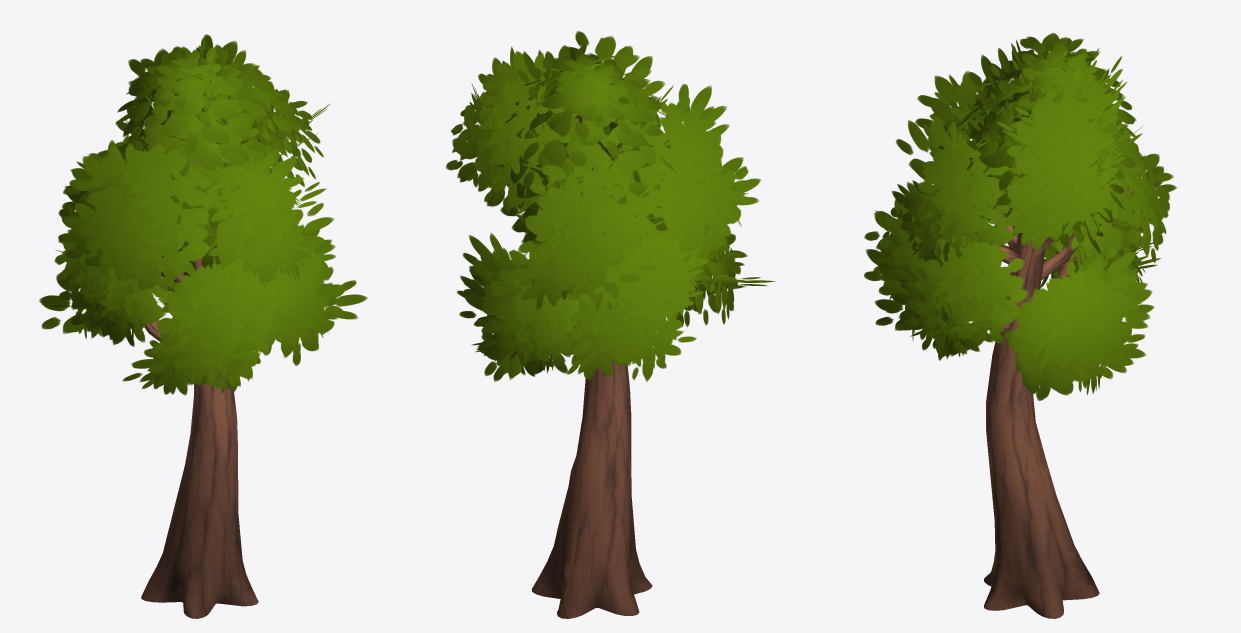
Rendered from tree-4.glb.
3 renders of one model, left to right at view 1: azimuth 30°, elevation 25°; view 2: azimuth 150°, elevation 25°; view 3: azimuth 270°, elevation 25°, orthographic. The views are drawn at different scales.
Parts seen in each view (by area): view 1: CommonTree_1; view 2: CommonTree_1; view 3: CommonTree_1.
Boxes of the visible parts, x1,y1,x2,y2 form: CommonTree_1: (39,34,367,618); CommonTree_1: (446,31,775,618); CommonTree_1: (864,33,1176,618).
Bounding box in the file's own units: 4.31 × 7.26 × 4.58.
Materials: 2 (2 with a texture image).
